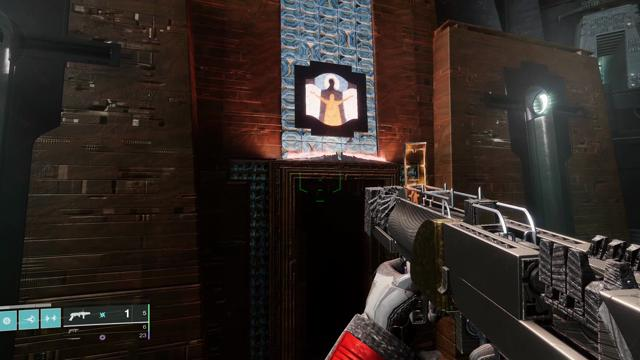worship: (305, 73, 358, 126)
